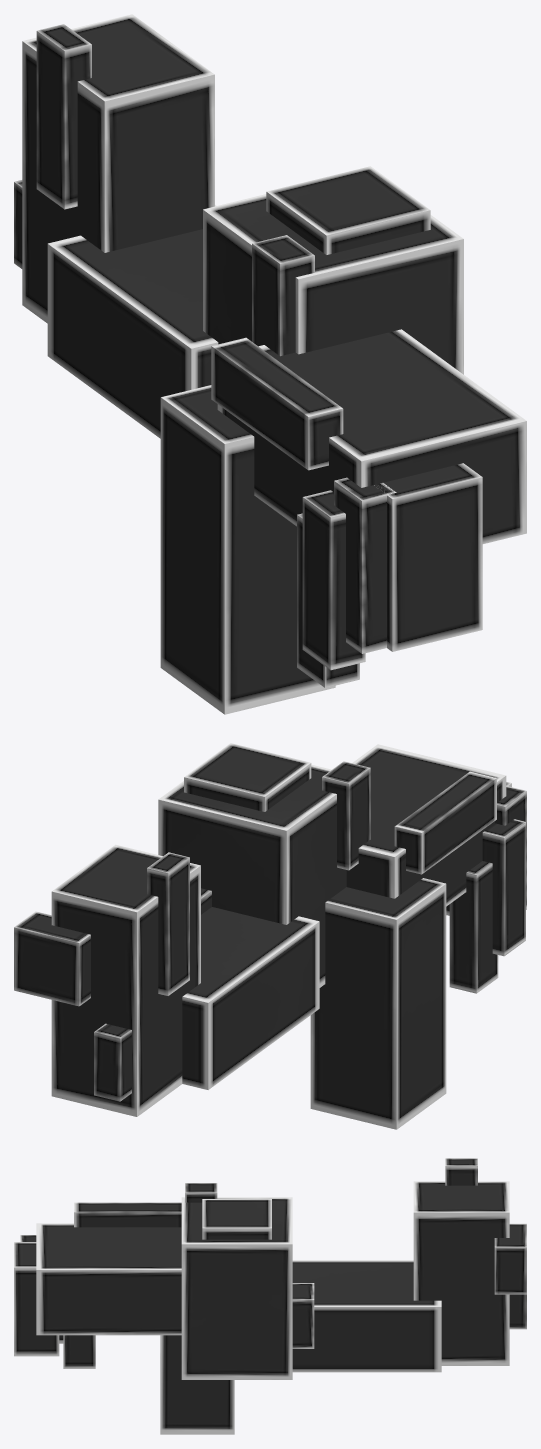
File: GROUPBOX3.FBX
3 renders of one model, top to bottom at view 1: azimuth 30°, elevation 25°; view 2: azimuth 150°, elevation 25°; view 3: azimuth 270°, elevation 25°, orthographic. The views are drawn at different scales.
Parts seen in each view (by area): view 1: GROUPBOX3; view 2: GROUPBOX3; view 3: GROUPBOX3.
Part boxes in pixels (x1,y1,x2,y2): GROUPBOX3: (14,14,526,714); GROUPBOX3: (14,743,526,1129); GROUPBOX3: (14,1158,526,1434).
Bounding box in the file's own units: 274 × 471 × 814.
